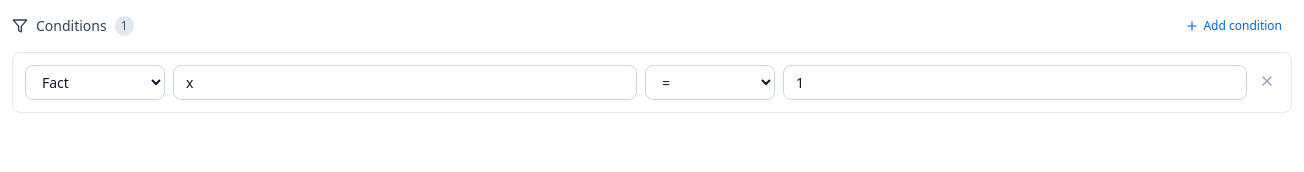
ConditionBuilder › removing conditions › removes a row when remove button is clicked
The width and height of the screenshot is (1304, 172).
Click the button titled "Remove condition" at (1267, 81), box [1255,69,1279,93]
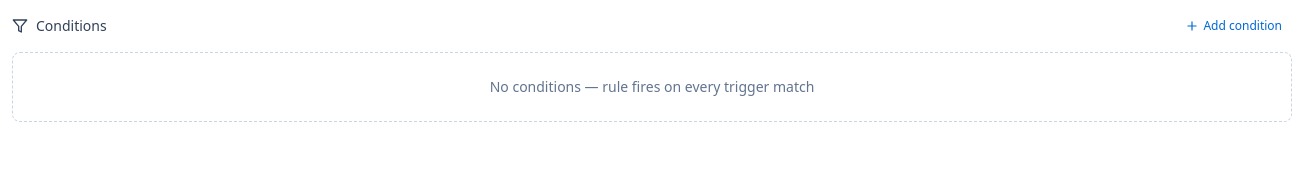
Result: the text "No conditions — rule fires on every trigger match" is shown at [12,52,1292,122]
